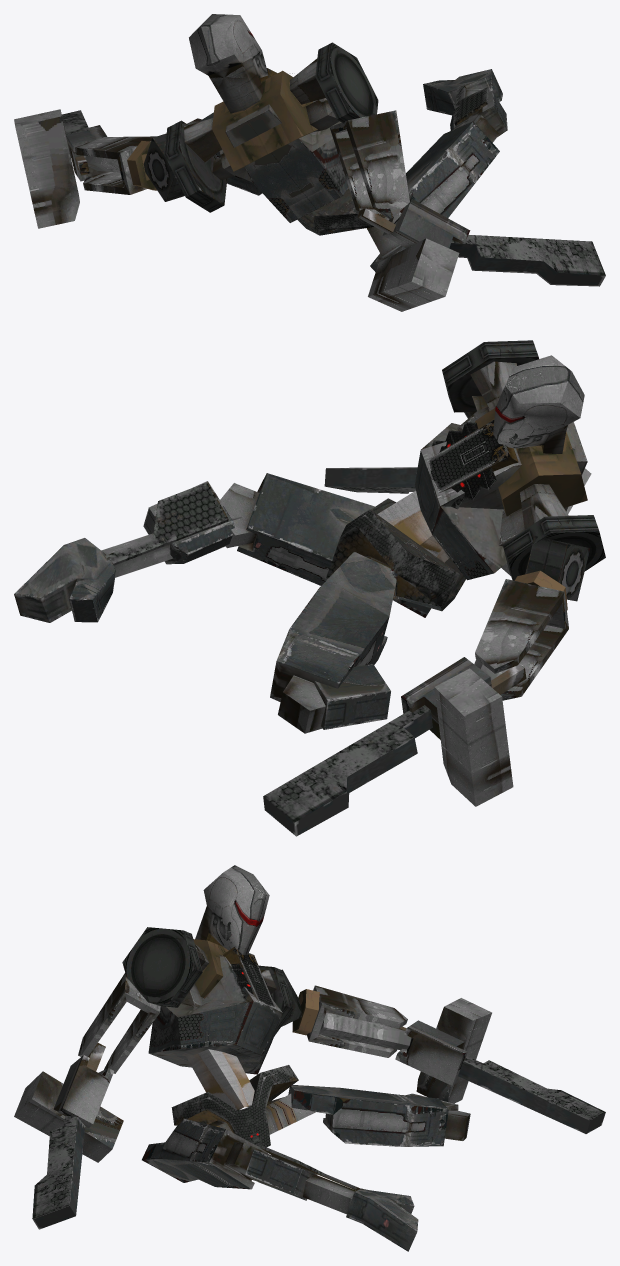
File: Vehicle_Robot003.glb
3 views of the same model, one above another, from view 1: azimuth 30°, elevation 25°; view 2: azimuth 150°, elevation 25°; view 3: azimuth 270°, elevation 25° (orthographic). The views are drawn at different scales.
Visible parts, largest first — view 1: tianwang_robot003; view 2: tianwang_robot003; view 3: tianwang_robot003.
Part boxes in pixels (x1,y1,x2,y2): tianwang_robot003: (14, 14, 605, 311); tianwang_robot003: (14, 340, 605, 836); tianwang_robot003: (14, 865, 605, 1251).
Bounding box in the file's own units: 2.43 × 1.45 × 3.04.
Materials: 1 (1 with a texture image).
